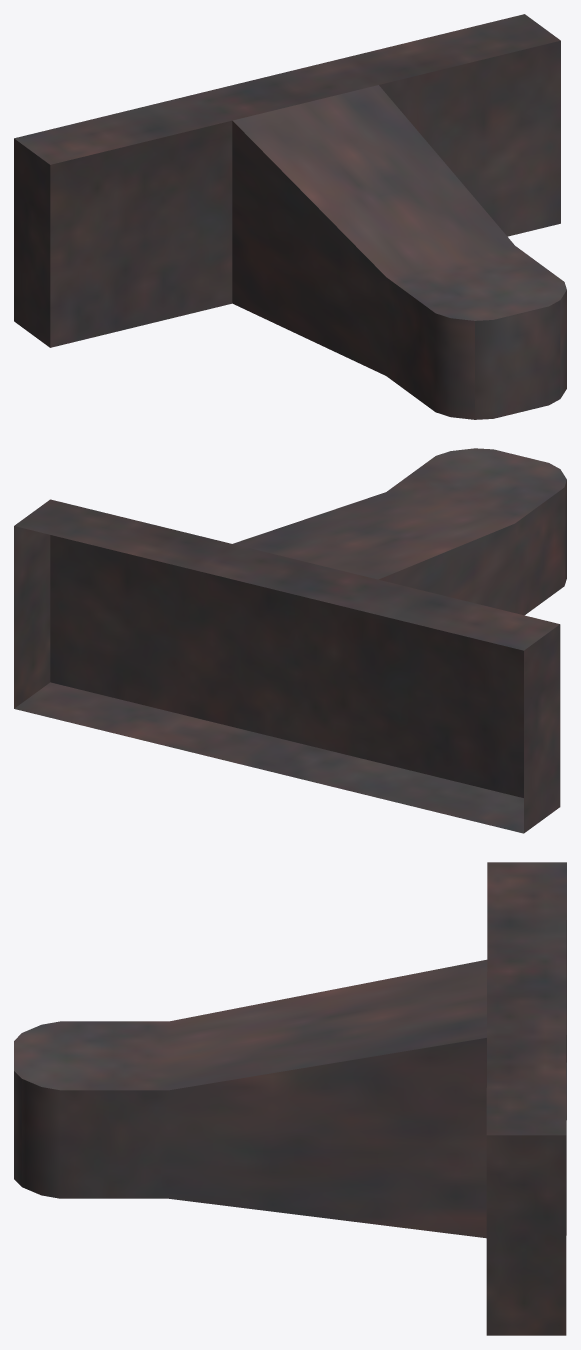
The model's file is rod_loop_left.fbx.
The picture shows the model from 3 angles, top to bottom: view 1: azimuth 30°, elevation 25°; view 2: azimuth 150°, elevation 25°; view 3: azimuth 270°, elevation 25°; orthographic projection. The views are drawn at different scales.
Visible parts, largest first — view 1: rod_loop_left; view 2: rod_loop_left; view 3: rod_loop_left.
Boxes of the visible parts, <box> form: rod_loop_left: <box>14,14,566,419</box>; rod_loop_left: <box>14,448,566,833</box>; rod_loop_left: <box>14,862,566,1335</box>.
Bounding box in the file's own units: 0.1467 × 0.0502 × 0.1256.
